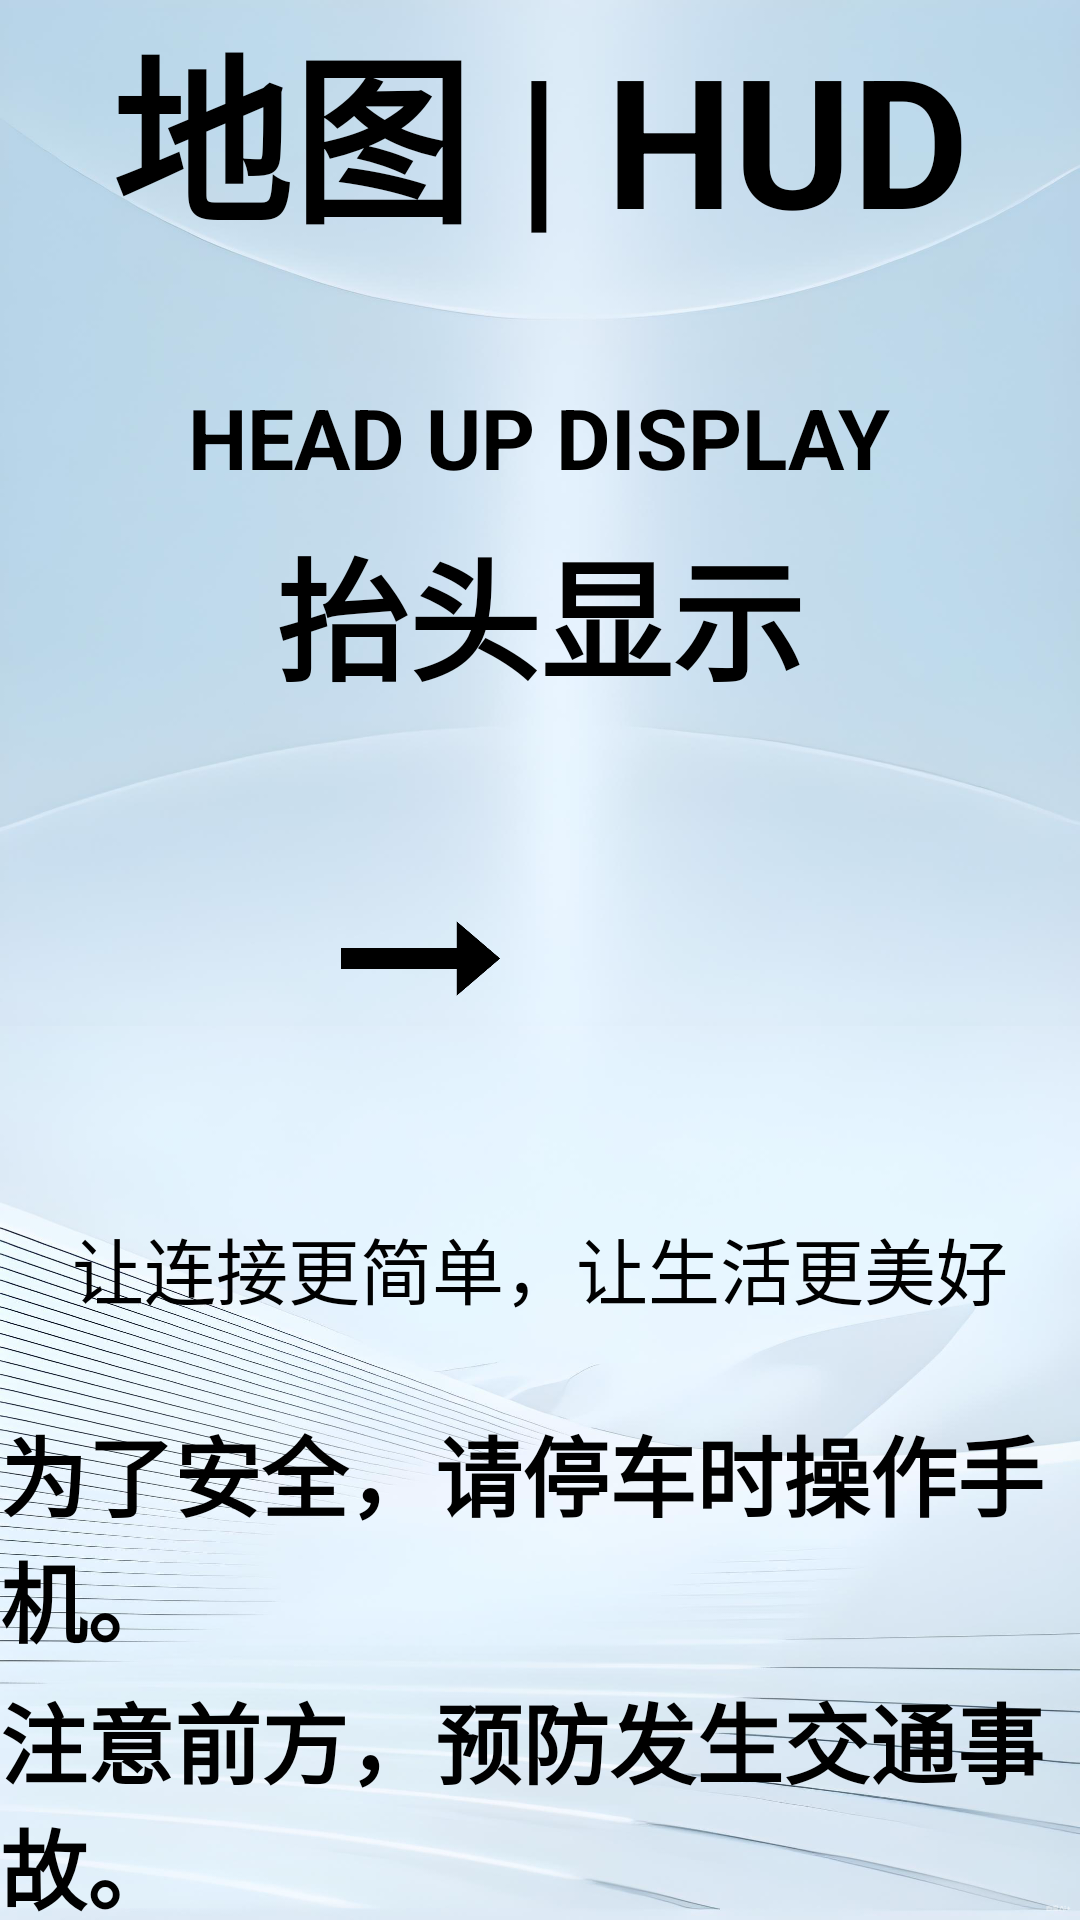

Screen size 1080px x 1920px. Icon name, then its box in pixels as (x1, y1, x2, y2):
hud to: (341, 921, 500, 996)
